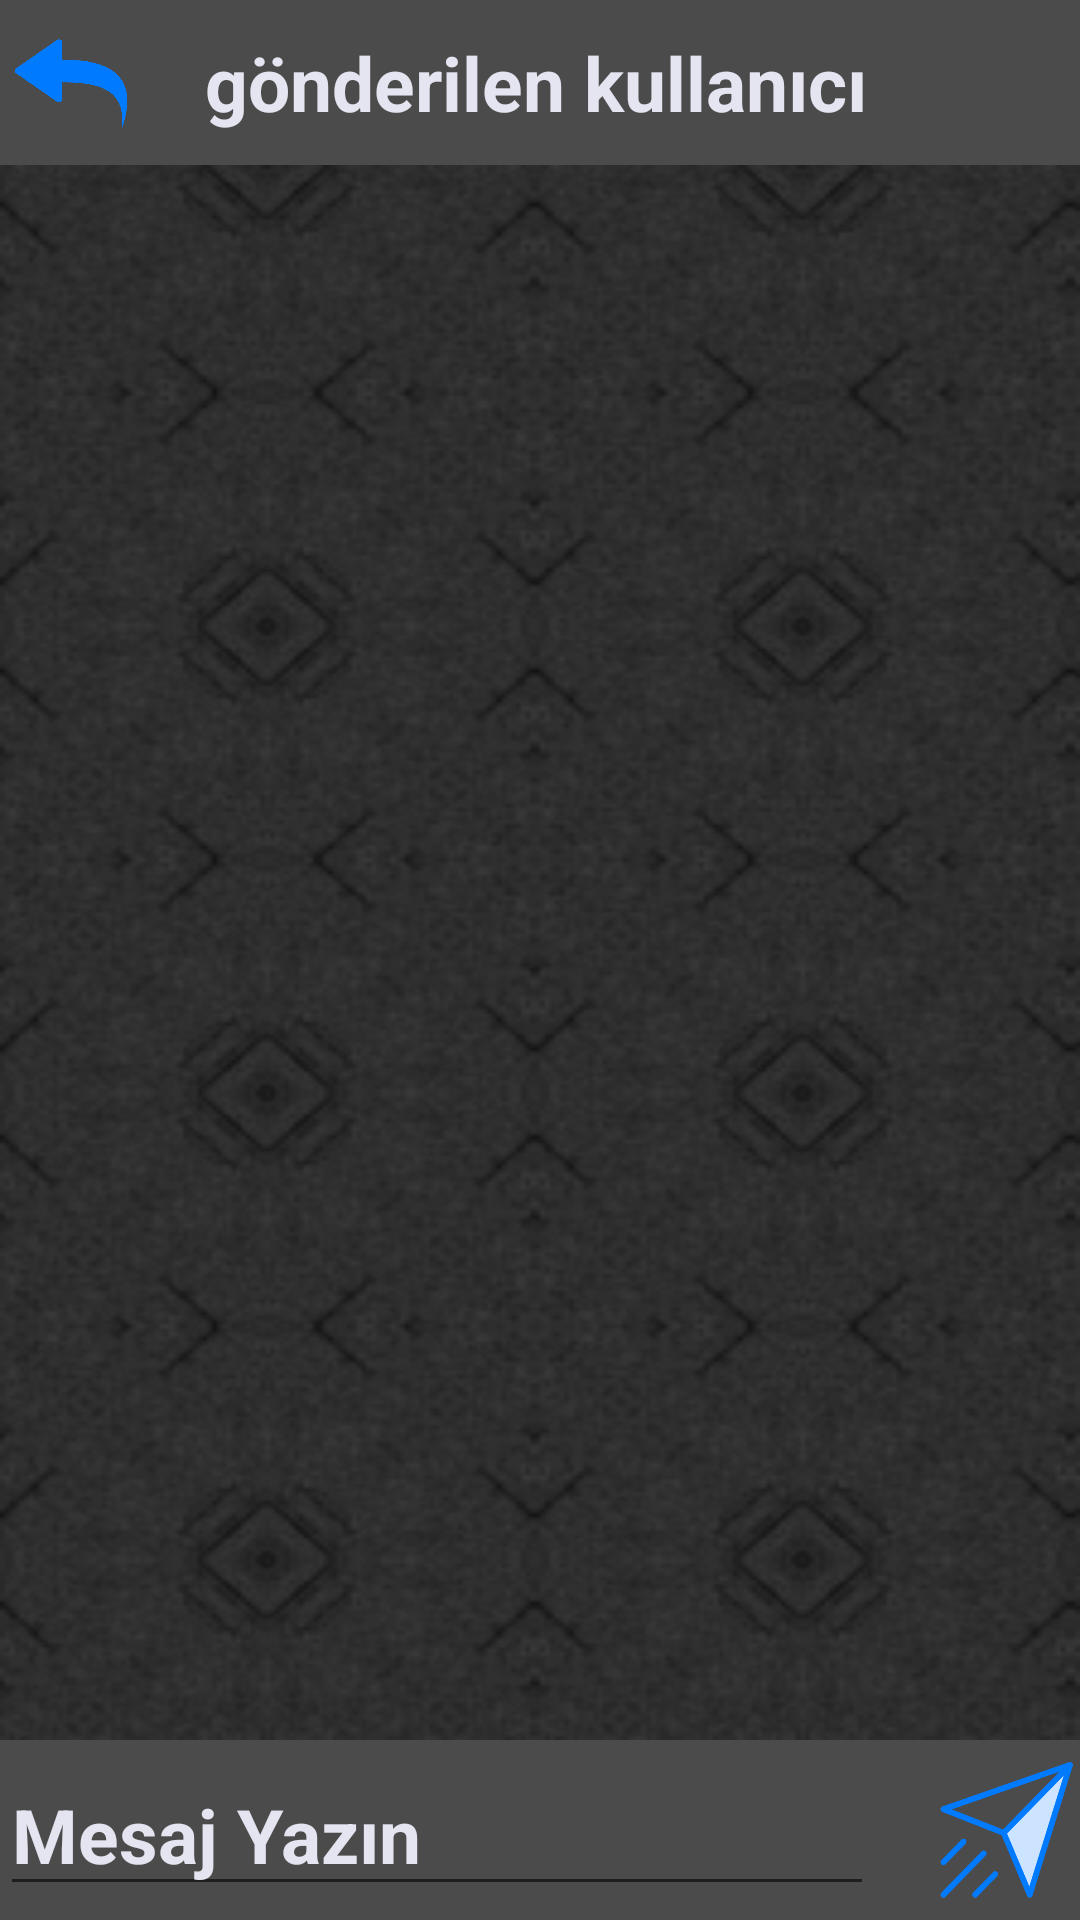

Named icons in this screenshot (1080 x 1920) and their centers, point (x, y):
back: point (71, 83)
send: point (1006, 1830)
